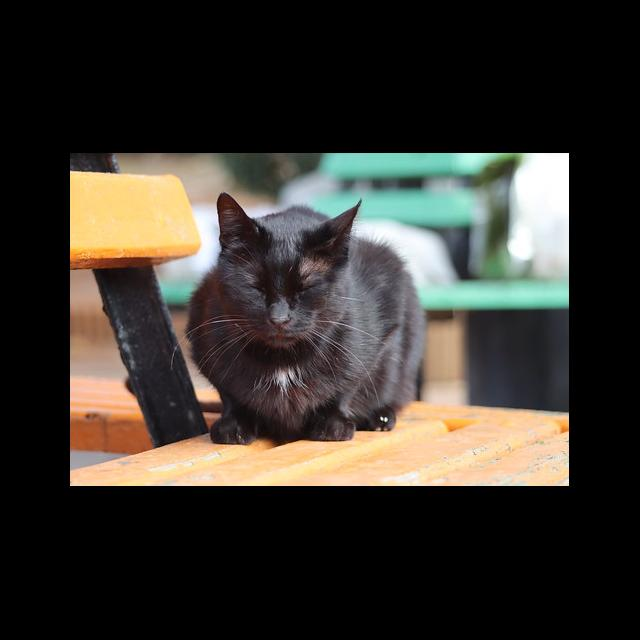animals: (188, 193, 427, 445)
